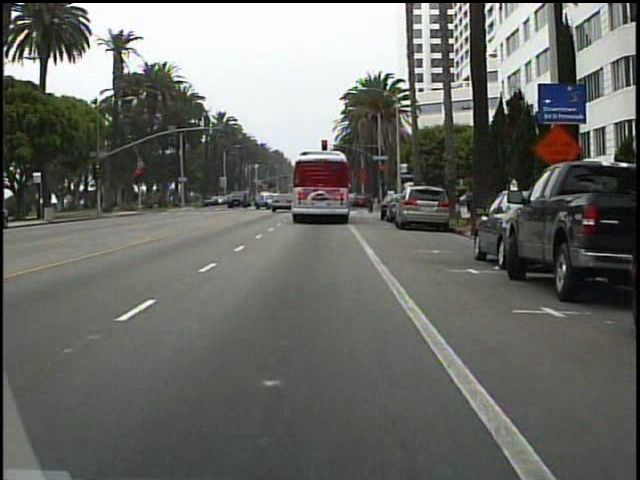person: (460, 184, 475, 218)
